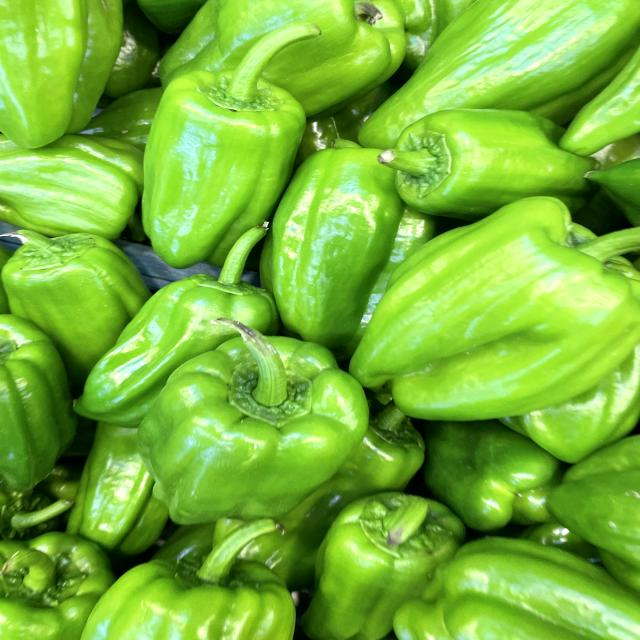bell pepper: (336, 181, 640, 428), (131, 317, 393, 529), (134, 20, 334, 268)
